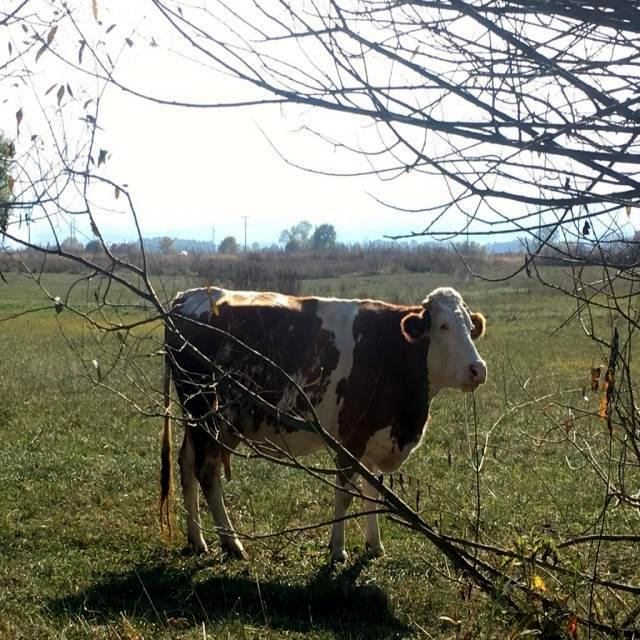COW: (161, 288, 486, 561)
